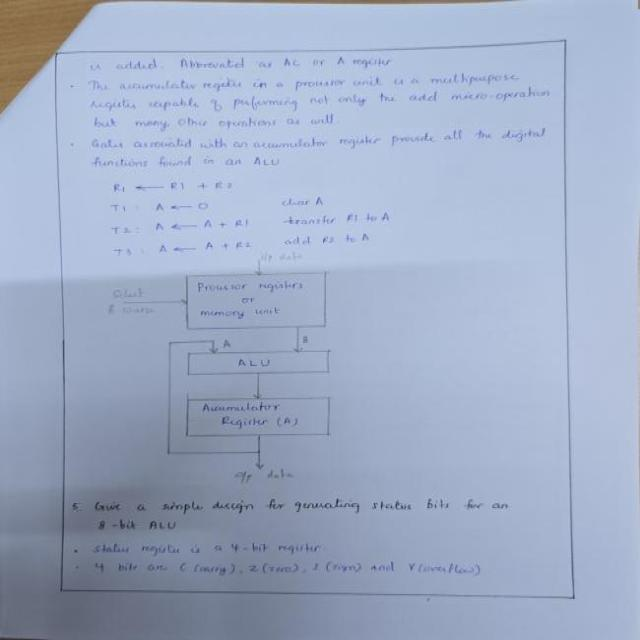Figure Detection - v3 Dataset Version2: (92, 248, 385, 490)
